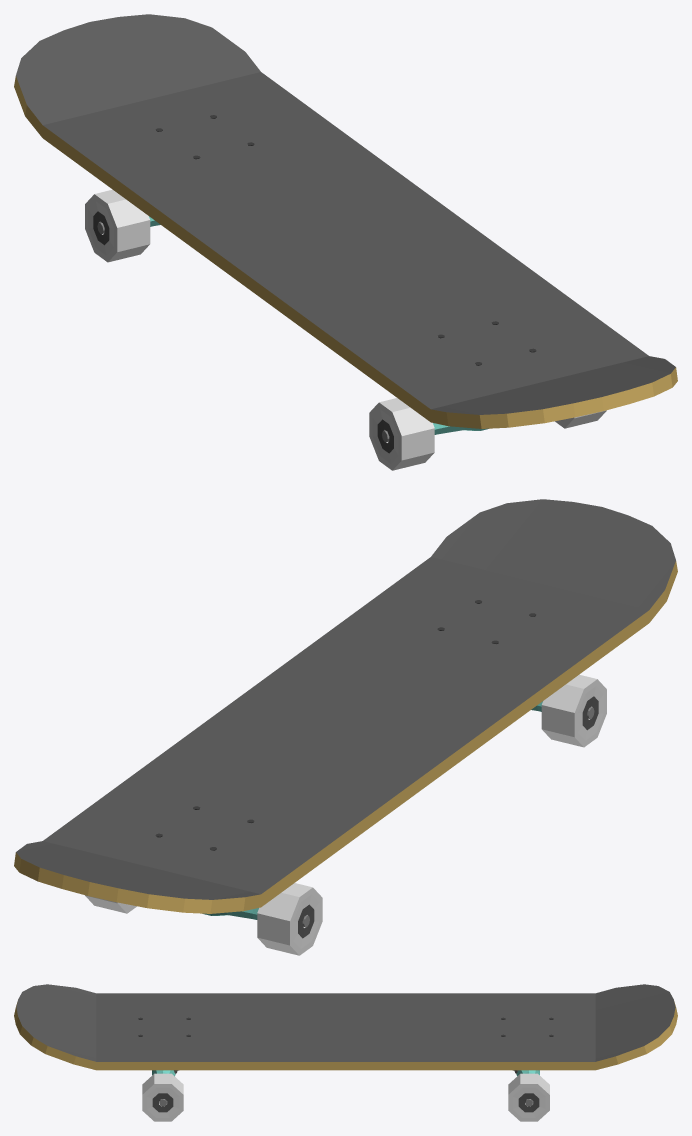
Rendered from Skateboard.fbx.
The picture shows the model from 3 angles, top to bottom: view 1: azimuth 30°, elevation 25°; view 2: azimuth 150°, elevation 25°; view 3: azimuth 270°, elevation 25°; orthographic projection. The views are drawn at different scales.
Visible parts, largest first — view 1: Skateboard, Front Right Wheel, Rear Left Wheel; view 2: Skateboard, Rear Left Wheel, Front Right Wheel; view 3: Skateboard, Rear Right Wheel, Front Left Wheel.
Part boxes in pixels (x1,y1,x2,y2): Skateboard: (14,14,677,428); Front Right Wheel: (85,189,150,262); Rear Left Wheel: (369,398,434,470); Skateboard: (14,499,677,913); Rear Left Wheel: (541,674,606,747); Front Right Wheel: (257,883,322,955); Skateboard: (14,984,677,1070); Rear Right Wheel: (142,1073,183,1121); Front Left Wheel: (508,1073,549,1121).
Size of the model in its own units: 184 by 102 by 753.
